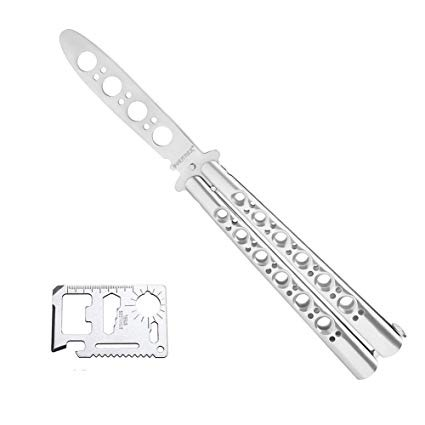knife: (49, 23, 414, 385)
